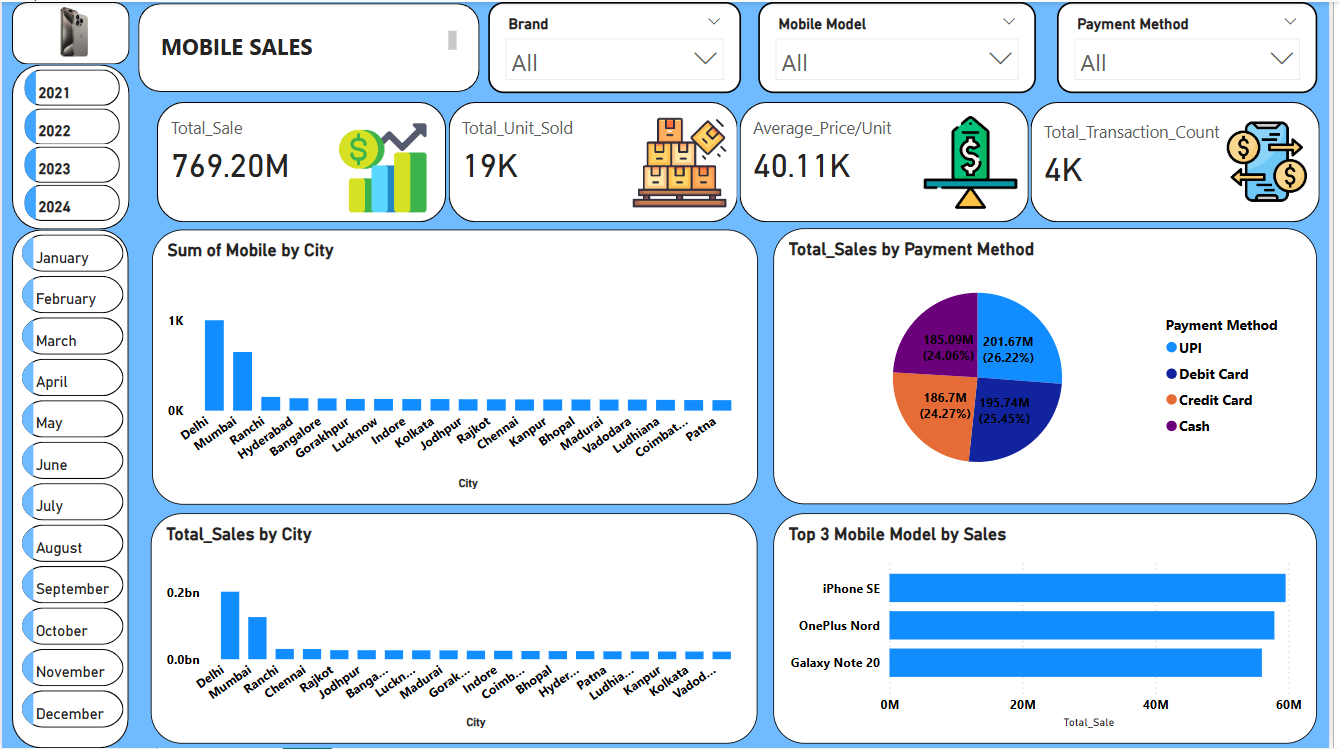

Layout of this report page (visuals, bound fields, positions):
{"tool":"powerbi","page":{"name":"Dashboard","canvas":[1280,720],"ordinal":0},"visuals":[{"type":"shape","box":[9.7,0,113.4,60.3],"z":0},{"type":"shape","box":[9.7,60.3,113.4,159.3],"z":1000},{"type":"shape","box":[10.1,219.3,112.5,500.6],"z":2000},{"type":"advancedSlicerVisual","fields":{"Values":["Custom_Calendar.Date.Variation.Date Hierarchy.Month"]},"box":[14.4,219.3,108.2,489.1],"z":3000},{"type":"cardVisual","fields":{"Data":["Sales_Data.Total_Sale","Sales_Data.Total_Unit_Sold","Sales_Data.Average_Price/Unit","Sales_Data.Total_Transaction_Count"]},"box":[144.8,91.7,1135.3,126.7],"z":4000},{"type":"slicer","fields":{"Values":["Sales_Data.Mobile Model"]},"box":[729.9,0,267.8,88.1],"z":5000},{"type":"slicer","fields":{"Values":["Sales_Data.Brand"]},"box":[469.3,0,243.7,88.1],"z":6000},{"type":"slicer","fields":{"Values":["Sales_Data.Payment Method"]},"box":[1018.2,0,250.9,88.1],"z":7000},{"type":"shape","box":[131.5,1.2,329.4,85.7],"z":8000},{"type":"textbox","box":[148.4,22.9,295.6,42.2],"z":9000},{"type":"clusteredColumnChart","title":"Sum of Mobile by City","fields":{"Category":["Sales_Data.City"],"Y":["CountNonNull(Sales_Data.Transaction ID)"]},"box":[144.8,219.6,585.1,265.4],"z":10000},{"type":"pieChart","title":"Total_Sales by Payment Method","fields":{"Category":["Sales_Data.Payment Method"],"Y":["Sum(Sales_Data.Total_Sales)"]},"box":[744.4,218.4,524.8,266.6],"z":11000},{"type":"clusteredBarChart","title":"Top 3 Mobile Model by Sales","fields":{"Category":["Sales_Data.Mobile Model"],"Y":["Sales_Data.Total_Sale"]},"box":[744,493,525,222.5],"z":12000},{"type":"advancedSlicerVisual","fields":{"Values":["Custom_Calendar.Date.Variation.Date Hierarchy.Year"]},"box":[16.9,60.3,102.5,158],"z":13000},{"type":"image","box":[26.5,0,85.7,57.9],"z":14000},{"type":"clusteredColumnChart","title":"Total_Sales by City","fields":{"Category":["Sales_Data.City"],"Y":["Sales_Data.Total_Sale"]},"box":[144.2,493,585.5,222.5],"z":14001}]}

Visuals, with their boxes in screenshot pixels (x1, y1, x2, y2), scaled from the page's 1280x720 canvas onto the 1339x749 screenshot:
shape: (left=10, top=0, right=129, bottom=63)
shape: (left=10, top=63, right=129, bottom=228)
shape: (left=11, top=228, right=128, bottom=748)
advancedSlicerVisual - Custom_Calendar.Date.Variation.Date Hierarchy.Month: (left=15, top=228, right=128, bottom=737)
cardVisual - Sales_Data.Total_Sale x Sales_Data.Total_Unit_Sold: (left=151, top=95, right=1338, bottom=227)
slicer - Sales_Data.Mobile Model: (left=764, top=0, right=1044, bottom=92)
slicer - Sales_Data.Brand: (left=491, top=0, right=746, bottom=92)
slicer - Sales_Data.Payment Method: (left=1065, top=0, right=1328, bottom=92)
shape: (left=138, top=1, right=482, bottom=90)
textbox: (left=155, top=24, right=464, bottom=68)
"Sum of Mobile by City" clusteredColumnChart: (left=151, top=228, right=764, bottom=505)
"Total_Sales by Payment Method" pieChart: (left=779, top=227, right=1328, bottom=505)
"Top 3 Mobile Model by Sales" clusteredBarChart: (left=778, top=513, right=1327, bottom=744)
advancedSlicerVisual - Custom_Calendar.Date.Variation.Date Hierarchy.Year: (left=18, top=63, right=125, bottom=227)
image: (left=28, top=0, right=117, bottom=60)
"Total_Sales by City" clusteredColumnChart: (left=151, top=513, right=763, bottom=744)
